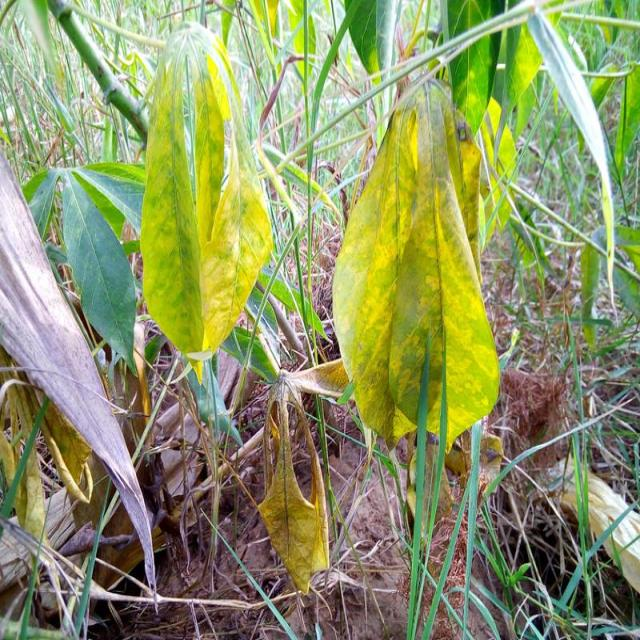cassava leaf: (331, 74, 502, 456), (139, 20, 275, 372)
